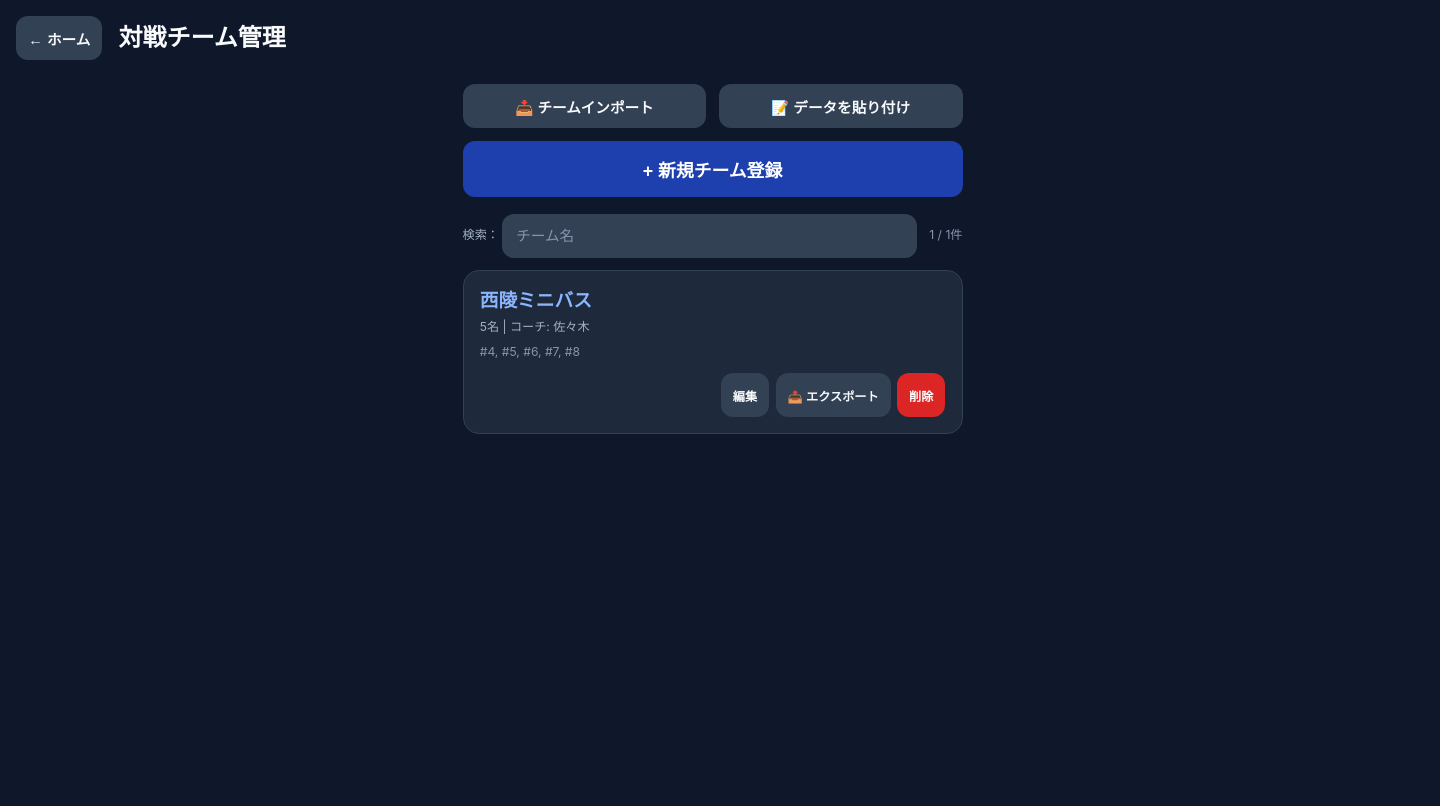
Test: OpponentManager: コーチ欄の読み上げ › 氏名とライセンスNo.が別々の名前で読める
Click the button "編集": [745, 395] box [721,373,769,417]
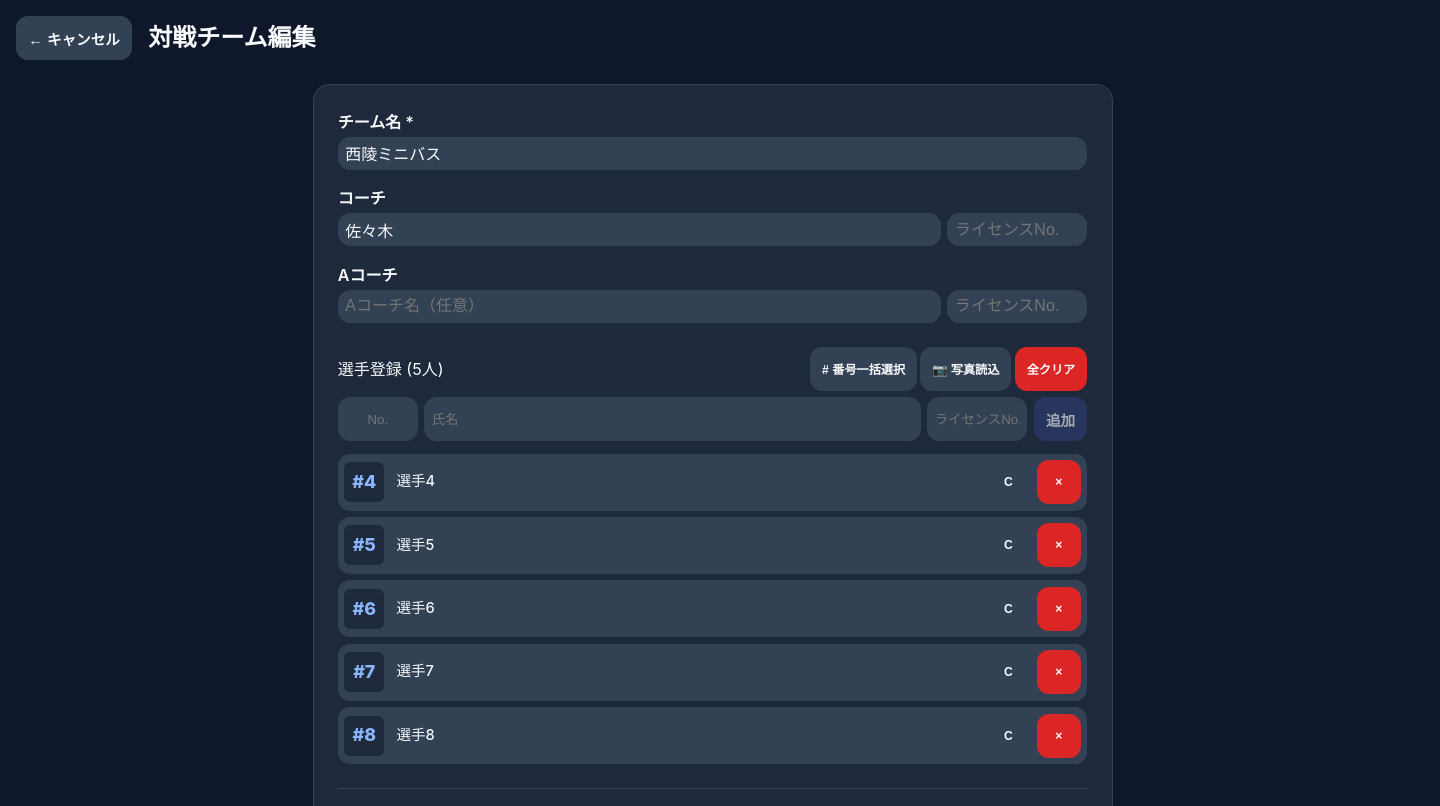
Now the field labelled "コーチ" is shown, box [338,213,941,246]
Now the field named "コーチのライセンスNo." is shown, box [947,213,1087,246]
Now the field labelled "Aコーチ" is shown, box [338,290,941,323]
